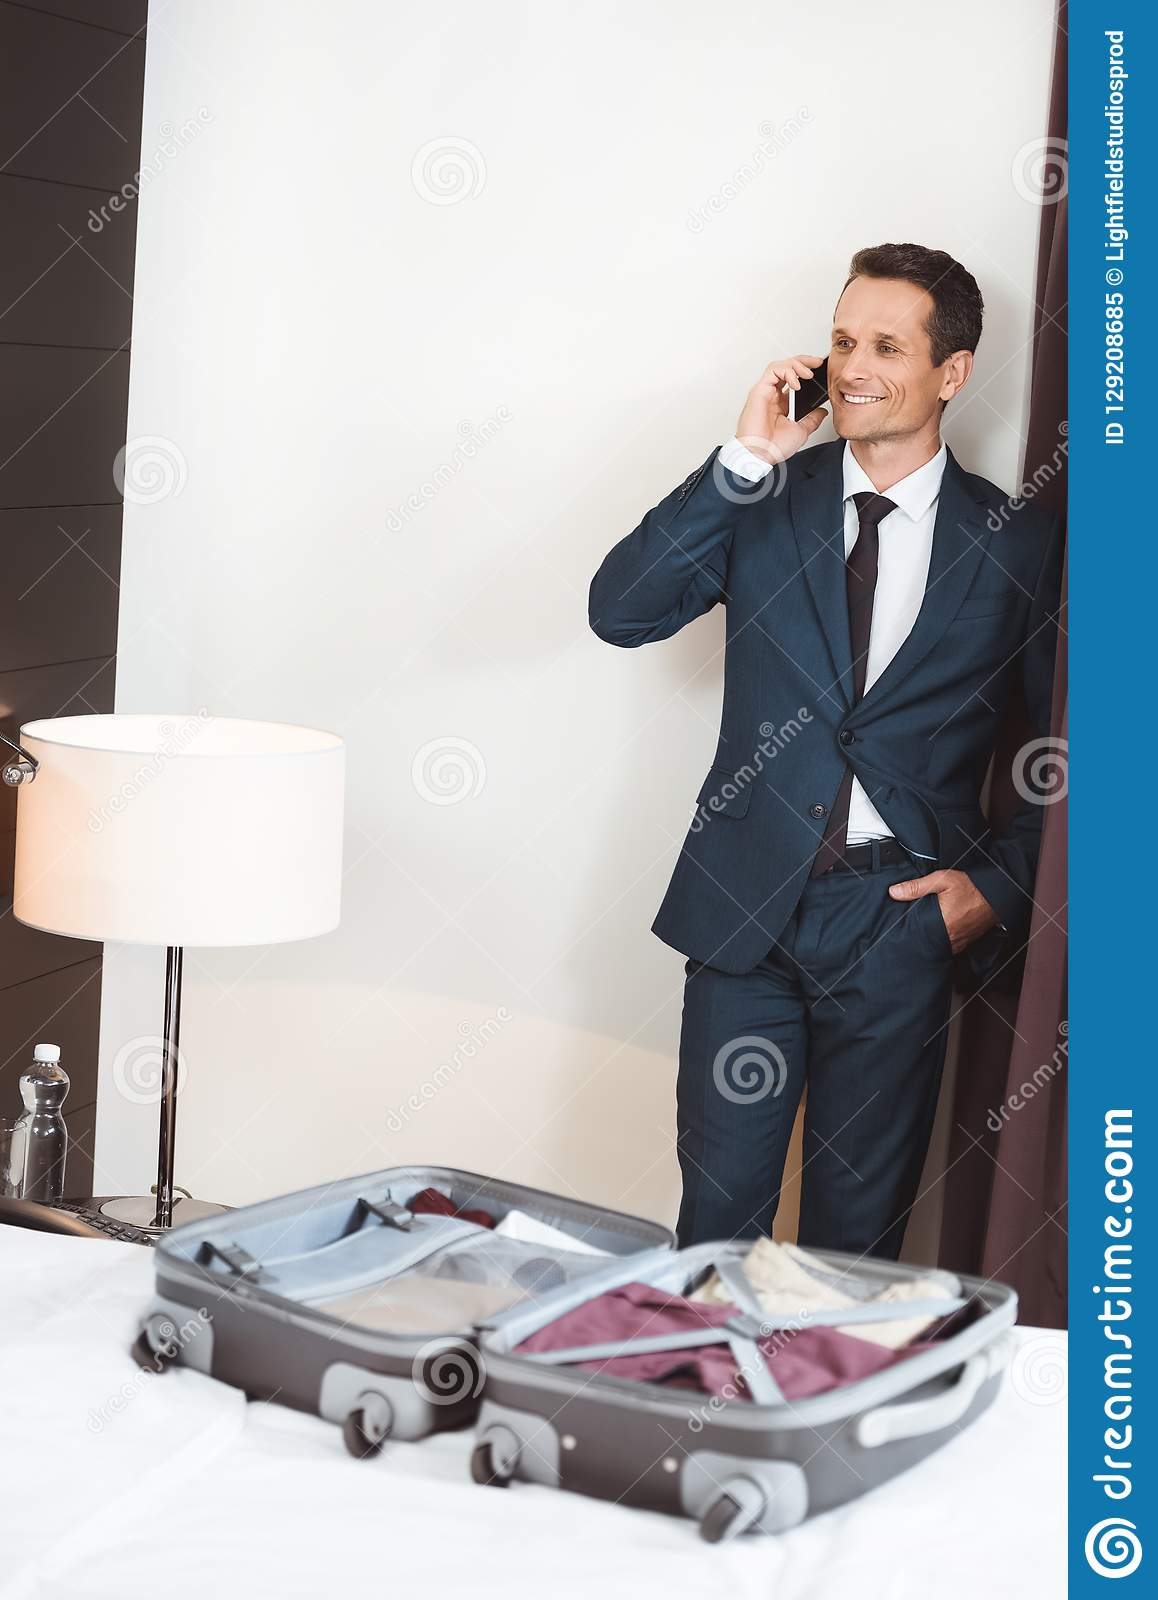phone: (785, 350, 832, 431)
talk: (736, 320, 919, 468)
